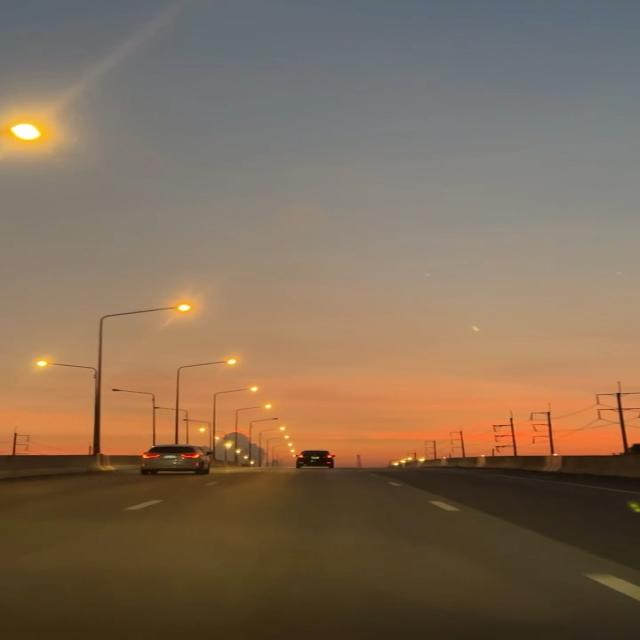Poth-hole: (96, 458, 453, 625)
